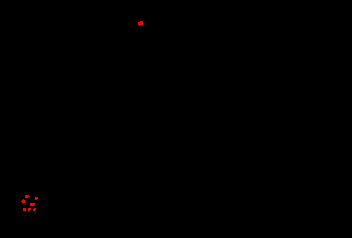Target: (138, 21, 143, 25), (21, 199, 25, 203), (25, 195, 30, 198), (30, 203, 35, 206), (35, 197, 38, 200), (23, 208, 26, 211), (28, 208, 31, 211), (33, 208, 36, 211)
